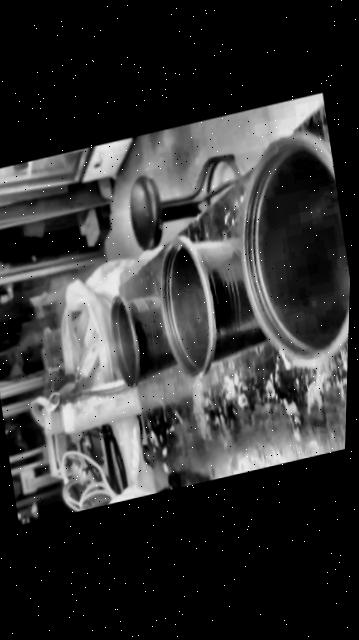pot: (220, 126, 355, 371), (158, 236, 265, 376), (108, 296, 174, 387)
